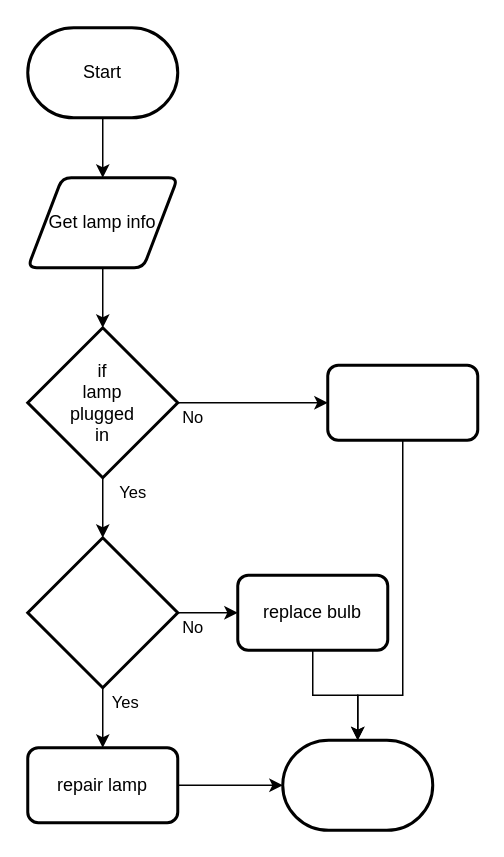
The diagram is 504 pixels wide and 857 high, and some of its shapes have lost their labels. The shapes that lost their labels are listed below. From the top down, each one's box as (x1, y1, x2, y2) in pixels, then its label:
(326, 363, 478, 441): plug lamp in
(26, 536, 178, 688): if bulb burnt out
(280, 738, 434, 831): Stop
